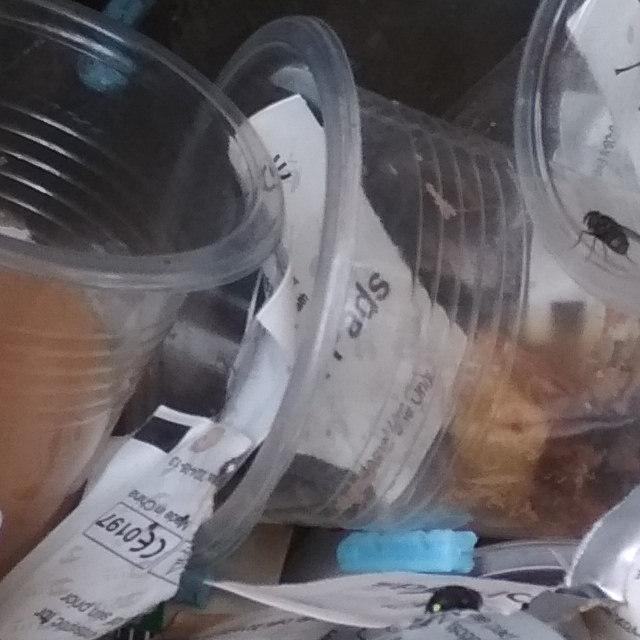paper: (0, 422, 375, 640)
plastic: (0, 0, 236, 577)
